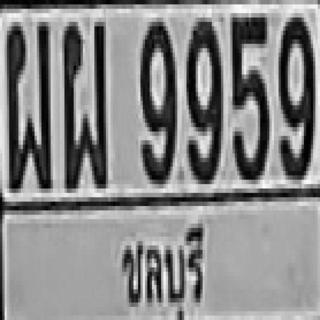A28: (60, 18, 106, 188), (4, 18, 49, 188)
N05: (230, 13, 267, 180)
N09: (276, 13, 313, 175), (138, 18, 175, 180), (184, 18, 221, 180)
P13: (115, 217, 211, 320)
